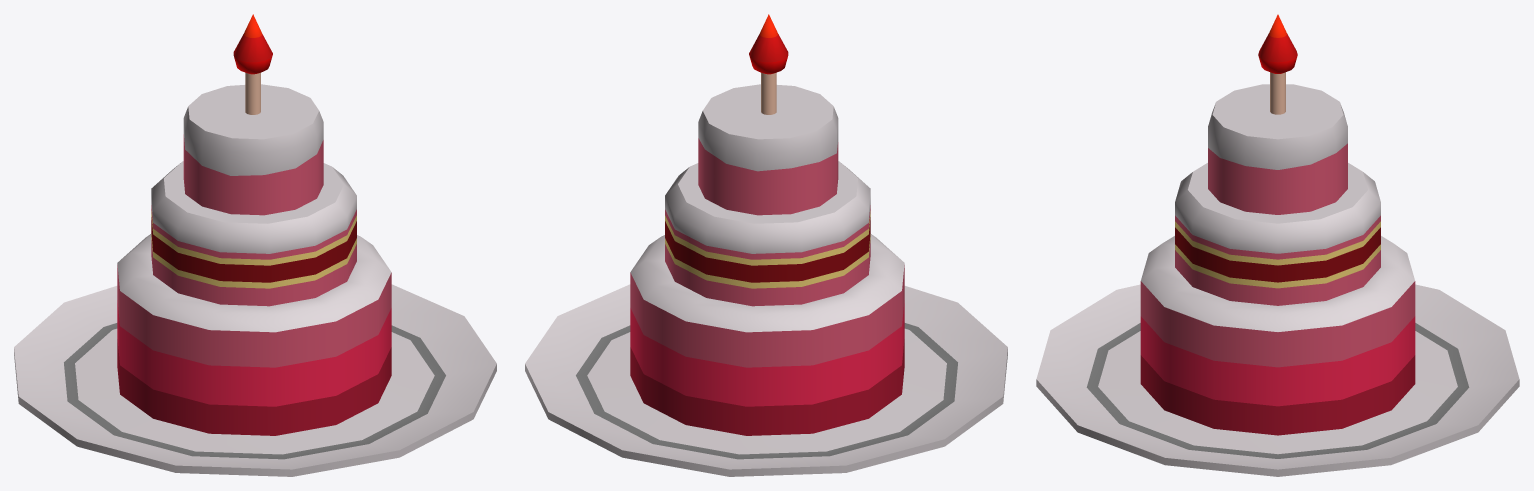
The model's file is Cake.fbx.
The picture shows the model from 3 angles, left to right: view 1: azimuth 30°, elevation 25°; view 2: azimuth 150°, elevation 25°; view 3: azimuth 270°, elevation 25°; orthographic projection.
Visible parts, largest first — view 1: Cylinder017; view 2: Cylinder017; view 3: Cylinder017.
Part boxes in pixels (x1=…): Cylinder017: x1=14, y1=14, x2=496, y2=476; Cylinder017: x1=525, y1=14, x2=1007, y2=476; Cylinder017: x1=1036, y1=14, x2=1519, y2=476.
Bounding box in the file's own units: 0.2929 × 0.251 × 0.295.
